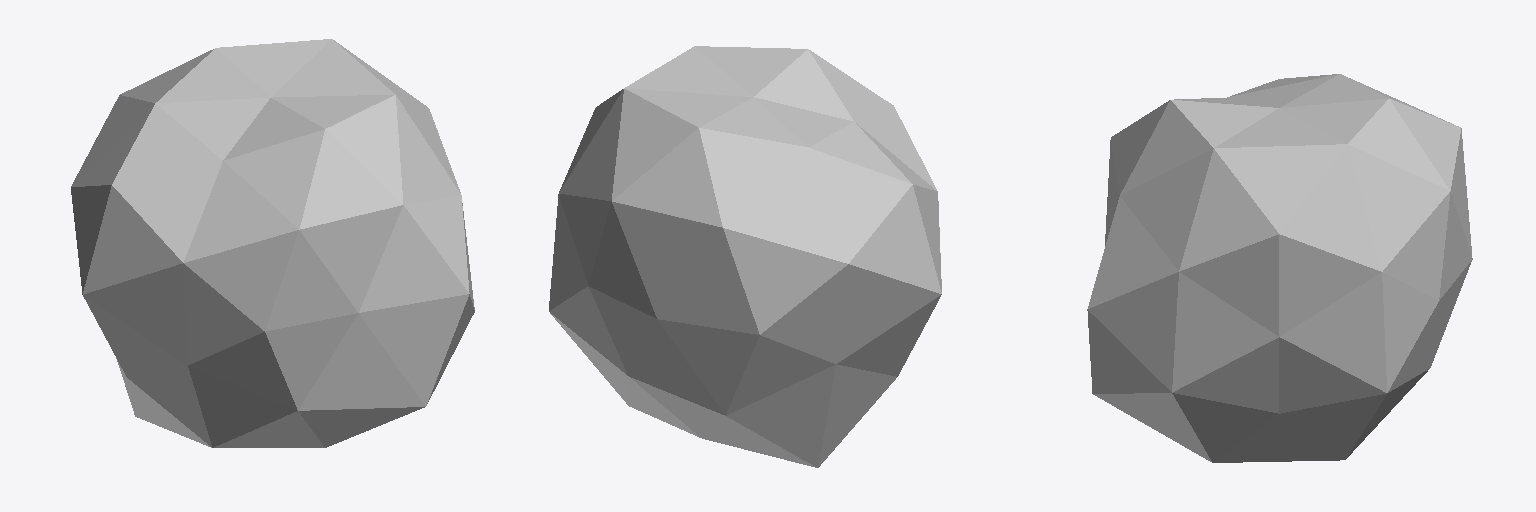
Rendered from rock.obj.
3 renders of one model, left to right at view 1: azimuth 30°, elevation 25°; view 2: azimuth 150°, elevation 25°; view 3: azimuth 270°, elevation 25°, orthographic.
Visible parts, largest first — view 1: icosahedron1; view 2: icosahedron1; view 3: icosahedron1.
Boxes of the visible parts, <box> form: icosahedron1: <box>71,39,474,447</box>; icosahedron1: <box>549,46,941,467</box>; icosahedron1: <box>1087,74,1472,462</box>.
Size of the model in its own units: 4.09 by 3.72 by 3.92.